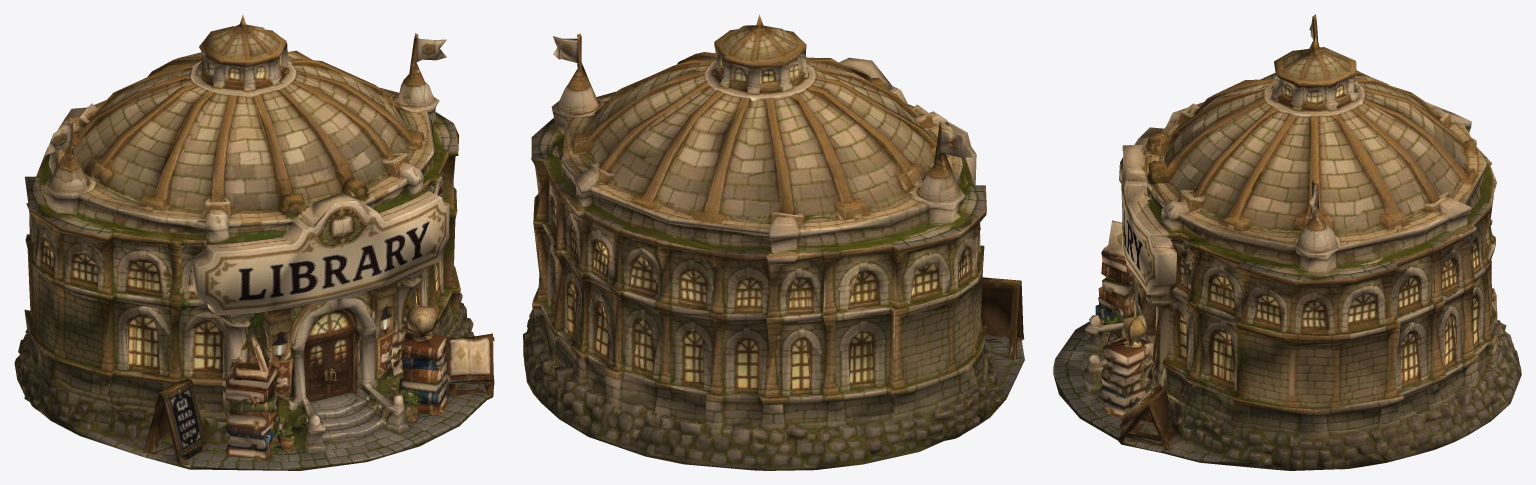
Rendered from life-library.glb.
The picture shows the model from 3 angles, left to right: view 1: azimuth 30°, elevation 25°; view 2: azimuth 150°, elevation 25°; view 3: azimuth 270°, elevation 25°; orthographic projection. The views are drawn at different scales.
Parts seen in each view (by area): view 1: Mesh1.0; view 2: Mesh1.0; view 3: Mesh1.0.
Boxes of the visible parts, box(x1,y1,x2,y2) form: Mesh1.0: box(14, 15, 494, 470); Mesh1.0: box(523, 14, 1024, 470); Mesh1.0: box(1053, 14, 1521, 470).
Size of the model in its own units: 1.9 by 1.5 by 1.9.
Materials: 1 (1 with a texture image).
